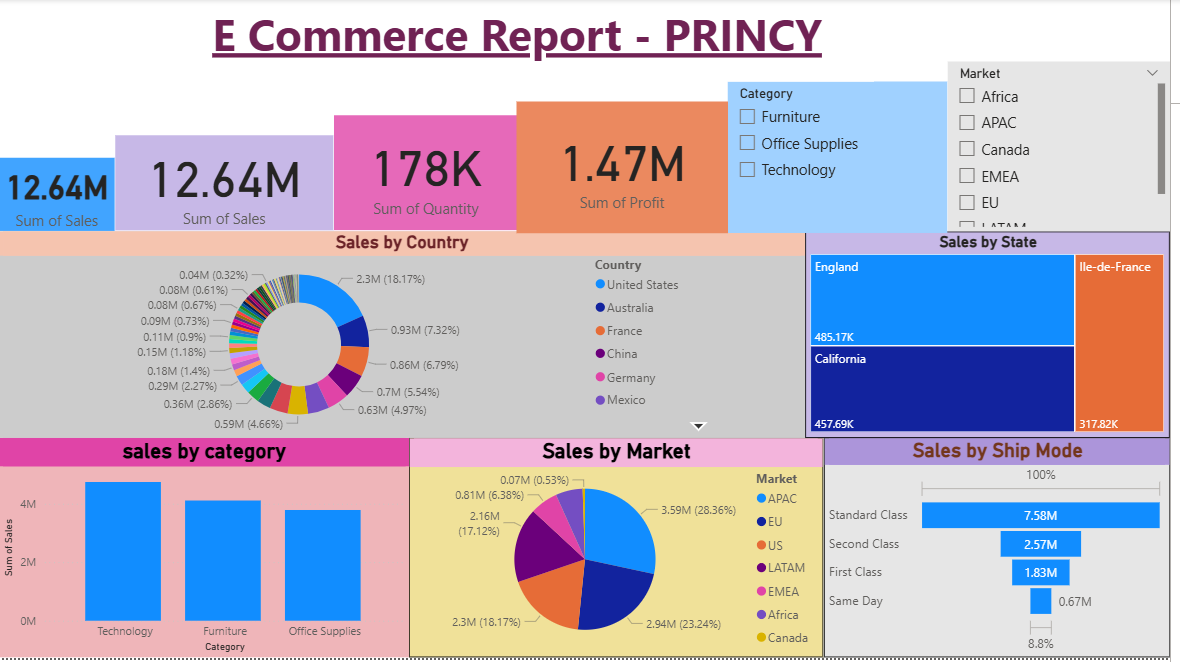

Layout of this report page (visuals, bound fields, positions):
{"tool":"powerbi","page":{"name":"Page 1","canvas":[1280,720],"ordinal":0},"visuals":[{"type":"columnChart","title":"sales by category","fields":{"Category":["Orders.Category"],"Y":["Sum(Orders.Sales)"]},"box":[0,480,448.8,240],"z":0},{"type":"pieChart","title":" Sales by Market","fields":{"Category":["Orders.Market"],"Y":["Sum(Orders.Sales)"]},"box":[448.8,480,452.5,240],"z":1000},{"type":"funnel","title":" Sales by Ship Mode","fields":{"Category":["Orders.Ship Mode"],"Y":["Sum(Orders.Sales)"]},"box":[901.7,480,378.3,240],"z":2000},{"type":"donutChart","title":"Sales by Country","fields":{"Category":["Orders.Country"],"Y":["Sum(Orders.Sales)"]},"box":[0,254.3,881.4,225.7],"z":3000},{"type":"treemap","title":"Sales by State","fields":{"Group":["Orders.State"],"Values":["Sum(Orders.Sales)"]},"box":[881.4,254.3,398.6,225.7],"z":4000},{"type":"card","fields":{"Values":["Sum(Orders.Sales)"]},"box":[0,173.3,126.7,80],"z":5000},{"type":"slicer","fields":{"Values":["Orders.Category"]},"box":[797.1,90,240,165.7],"z":6000},{"type":"slicer","fields":{"Values":["Orders.Market"]},"box":[1037.1,68.6,242.9,185.7],"z":7000},{"type":"textbox","box":[176.7,0,780,90],"z":8000},{"type":"card","fields":{"Values":["Sum(Orders.Quantity)"]},"box":[365.7,127.1,201.4,125.7],"z":9000},{"type":"card","fields":{"Values":["Sum(Orders.Profit)"]},"box":[565.7,111.4,231.4,144.3],"z":9001},{"type":"card","fields":{"Values":["Sum(Orders.Sales)"]},"box":[127.1,148.6,238.6,104.3],"z":9002}]}

Visuals, with their boxes in screenshot pixels (x1, y1, x2, y2), scaled from the page's 1280x720 canvas onto the 1180x662 screenshot:
"sales by category" columnChart: pyautogui.locateOnScreen(0, 441, 414, 661)
" Sales by Market" pieChart: pyautogui.locateOnScreen(414, 441, 831, 661)
" Sales by Ship Mode" funnel: pyautogui.locateOnScreen(831, 441, 1179, 661)
"Sales by Country" donutChart: pyautogui.locateOnScreen(0, 234, 813, 441)
"Sales by State" treemap: pyautogui.locateOnScreen(813, 234, 1179, 441)
card - Sum(Orders.Sales): pyautogui.locateOnScreen(0, 159, 117, 233)
slicer - Orders.Category: pyautogui.locateOnScreen(735, 83, 956, 235)
slicer - Orders.Market: pyautogui.locateOnScreen(956, 63, 1179, 234)
textbox: pyautogui.locateOnScreen(163, 0, 882, 83)
card - Sum(Orders.Quantity): pyautogui.locateOnScreen(337, 117, 523, 232)
card - Sum(Orders.Profit): pyautogui.locateOnScreen(522, 102, 735, 235)
card - Sum(Orders.Sales): pyautogui.locateOnScreen(117, 137, 337, 233)
